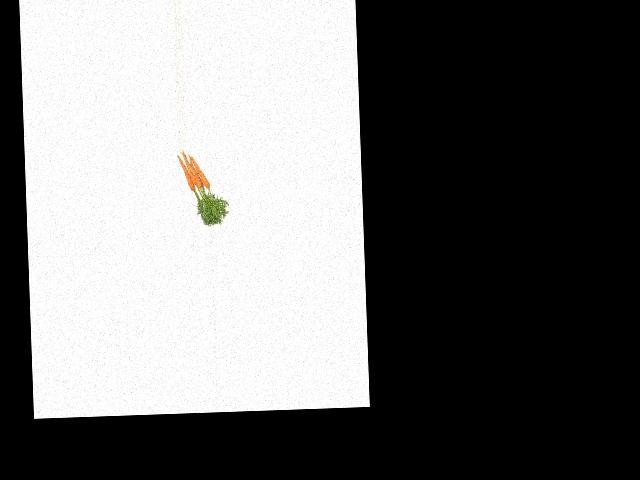carrot: (173, 153, 197, 194)
